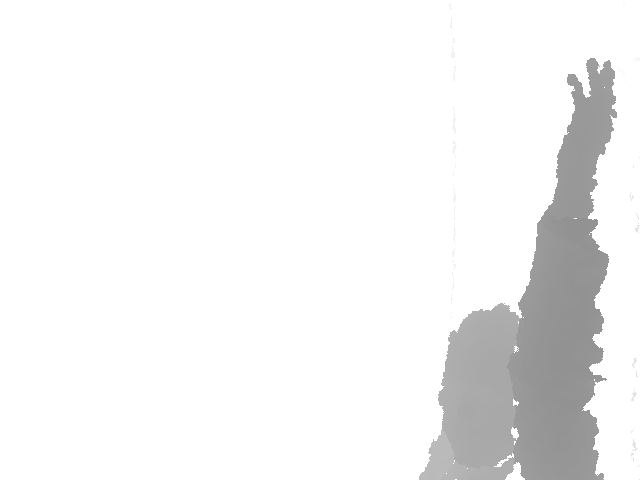hand: (555, 55, 618, 189)
head: (437, 302, 534, 469)
person: (417, 56, 618, 479)
